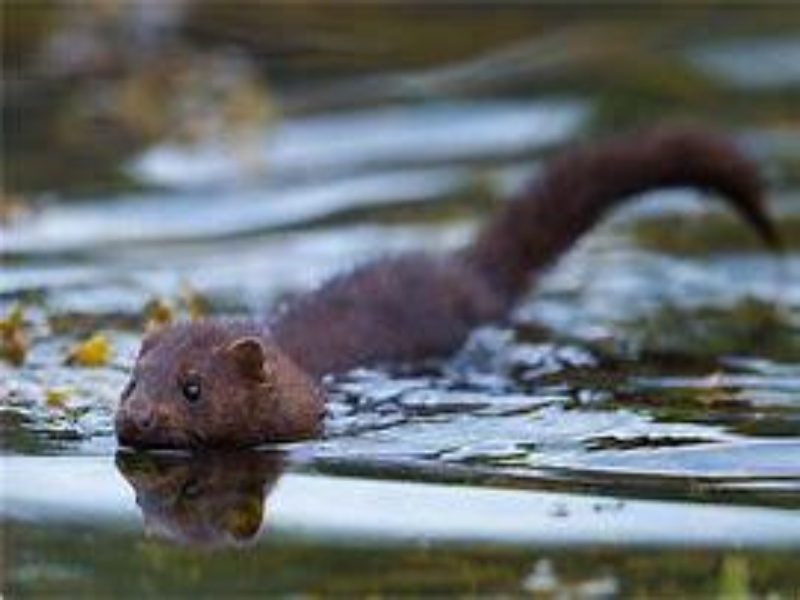minkish: (110, 111, 774, 454)
